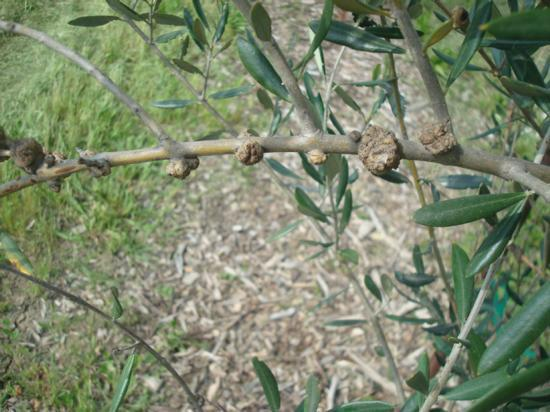Tuberculosis: (348, 122, 407, 178), (416, 119, 460, 159), (165, 151, 201, 181), (235, 138, 265, 169)
